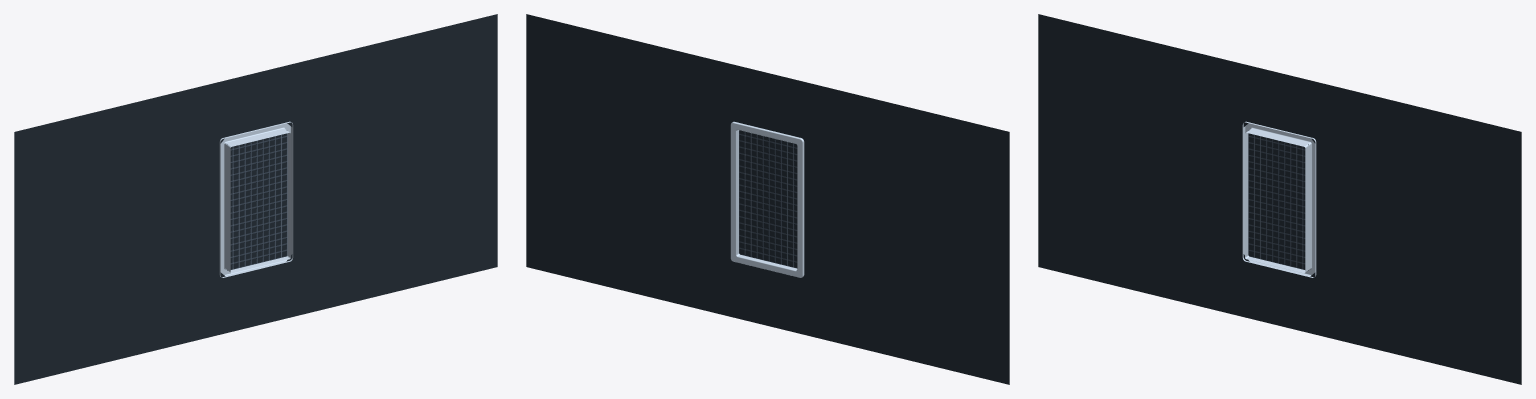
Rendered from Background.fbx.
3 renders of one model, left to right at view 1: azimuth 30°, elevation 25°; view 2: azimuth 150°, elevation 25°; view 3: azimuth 330°, elevation 25°, orthographic.
Parts seen in each view (by area): view 1: Border, Background; view 2: Border, Background; view 3: Border, Background.
Part boxes in pixels (x1,y1,x2,y2): Border: [14, 14, 497, 384]; Background: [227, 130, 287, 270]; Border: [526, 14, 1009, 384]; Background: [739, 130, 797, 268]; Border: [1038, 14, 1521, 384]; Background: [1248, 130, 1308, 270].
Bounding box in the file's own units: 80 × 1.77 × 40.
